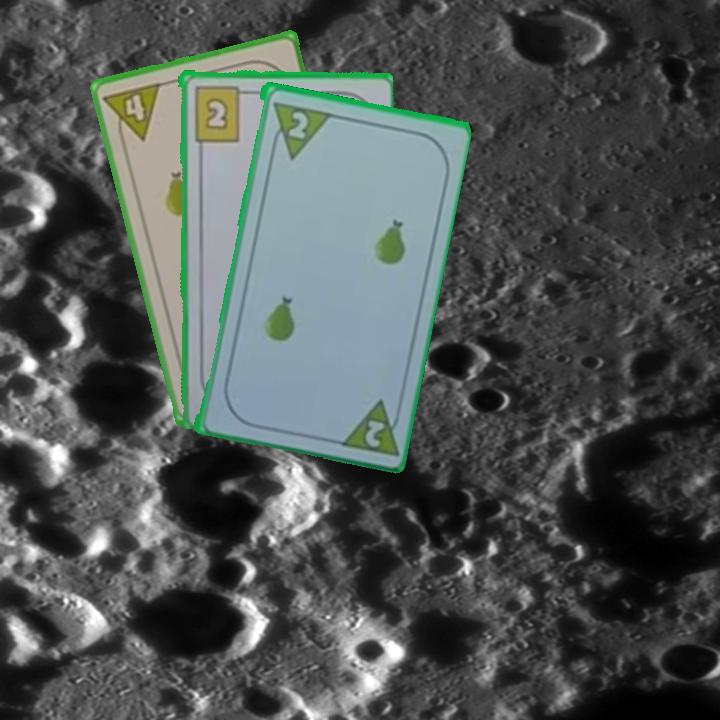2b: (190, 82, 251, 143)
2p: (333, 394, 405, 459), (284, 107, 311, 142)
4p: (99, 79, 164, 148)
